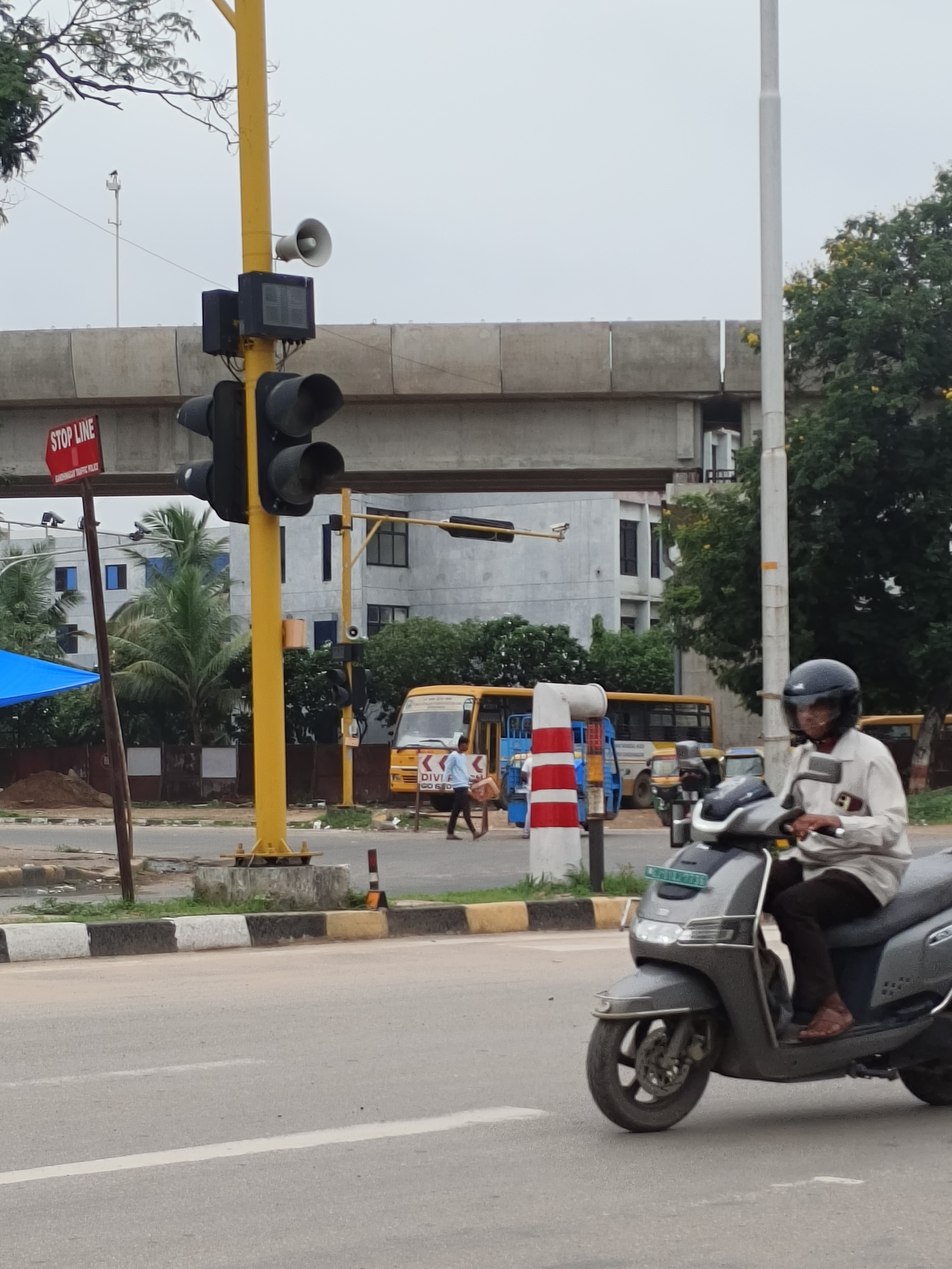BikeWithRider: (564, 650, 952, 1154)
Helmet: (763, 652, 879, 754)
